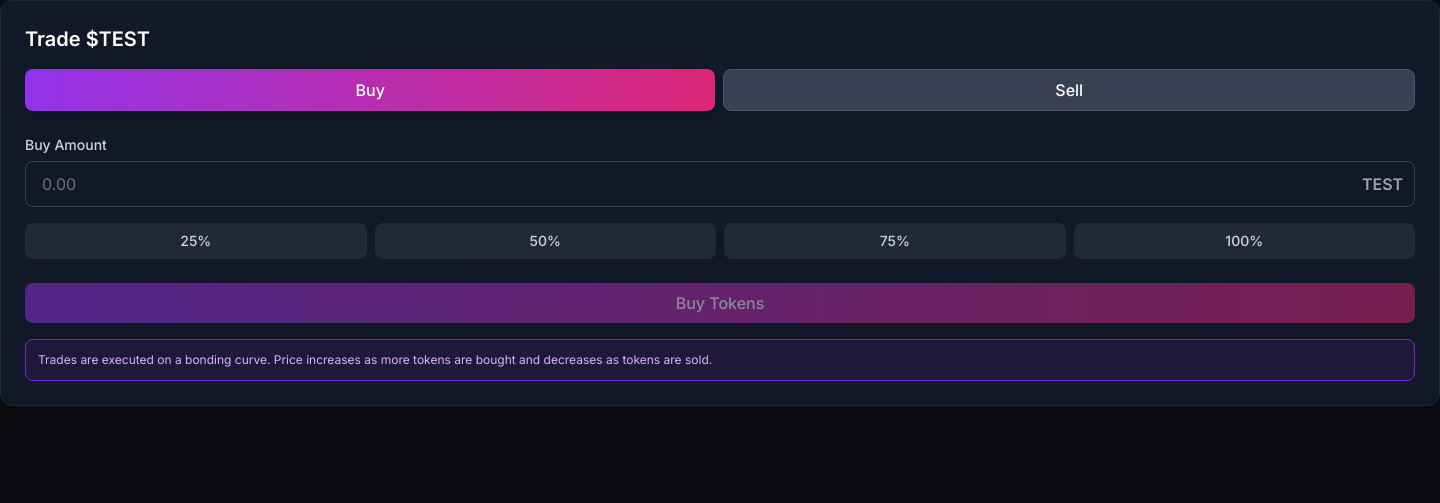
TradingInterface › Quote Fetching › should show loading state while fetching quote
The width and height of the screenshot is (1440, 503).
In the number field with placeholder "0.00": x=720, y=184 [25,161,1415,207], type "1000000"
Wait 500 ms
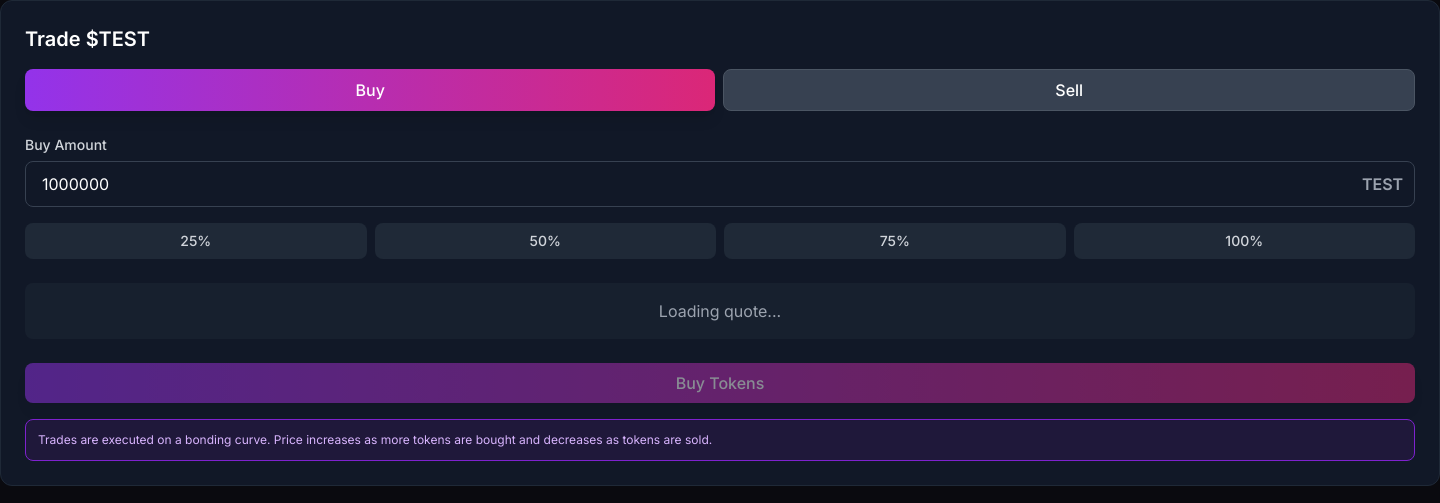
Check: the text "Loading quote..." is shown, box [659,301,781,321]
